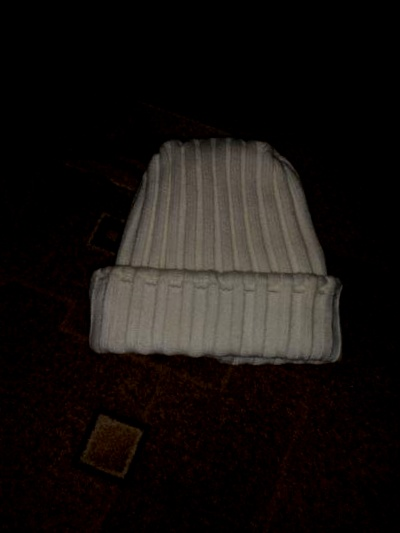Hat: (48, 111, 358, 402)
